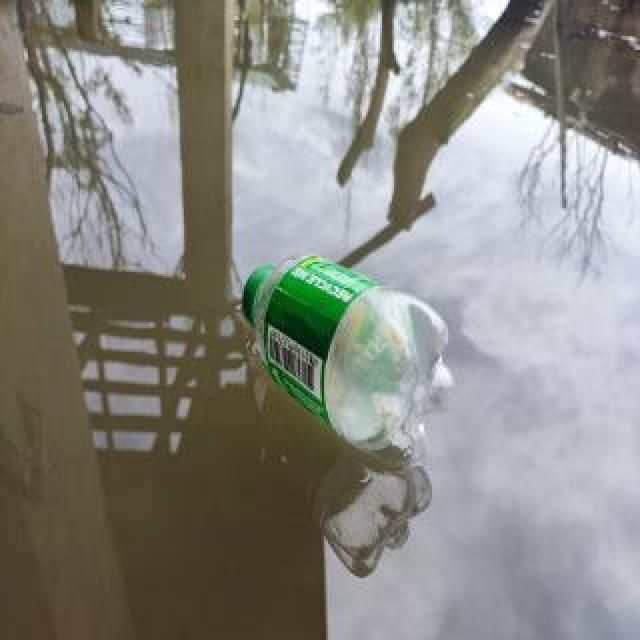bottle: (231, 248, 457, 470)
